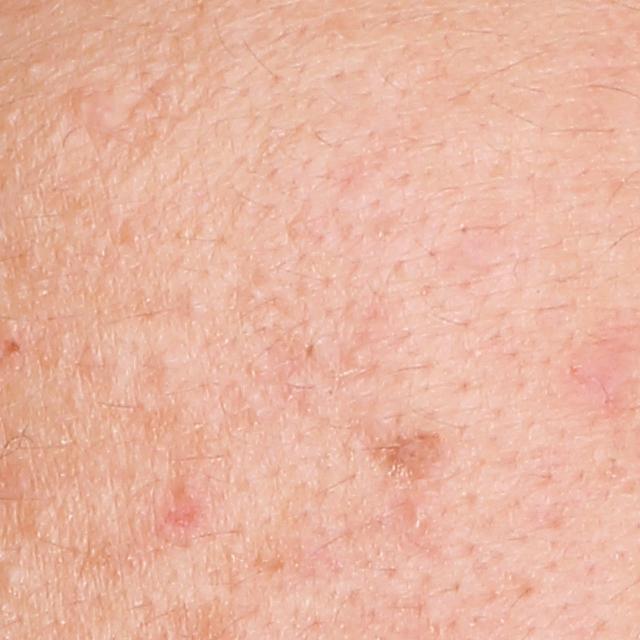comedo: (342, 344, 373, 373), (22, 54, 48, 80), (0, 107, 21, 132)
